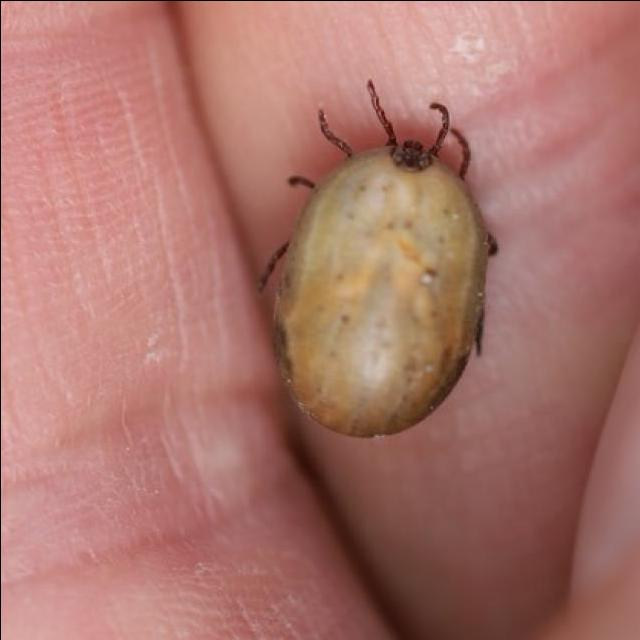Dermacentor Reticulatus-F-Fed: (263, 82, 498, 439)
